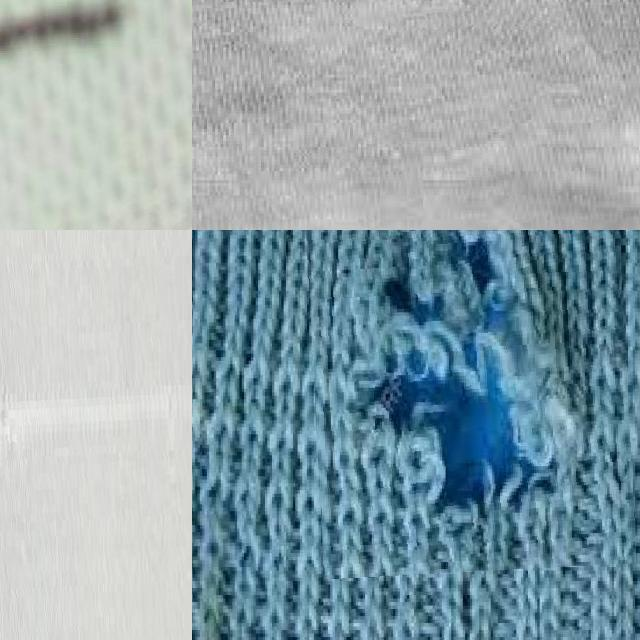Thread_other: (0, 230, 192, 640)
seam: (308, 230, 631, 575), (392, 0, 528, 30)
